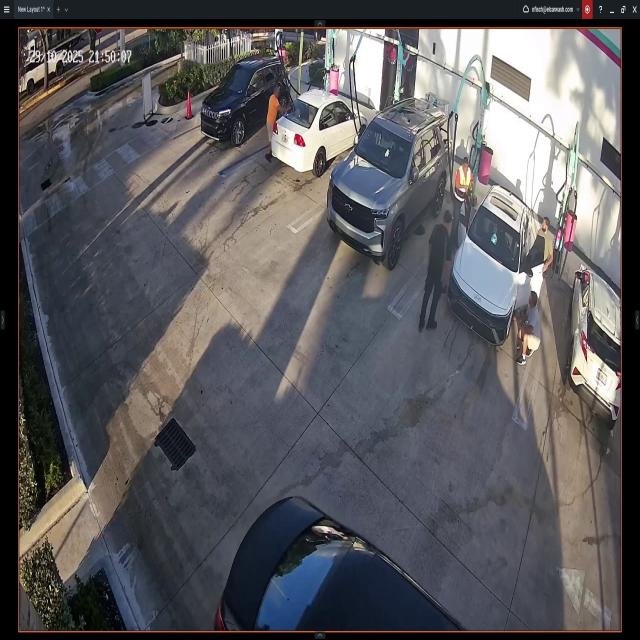Car: (216, 498, 461, 635), (328, 100, 452, 263), (448, 185, 532, 347), (568, 266, 621, 426), (274, 86, 364, 171), (203, 54, 290, 141)
